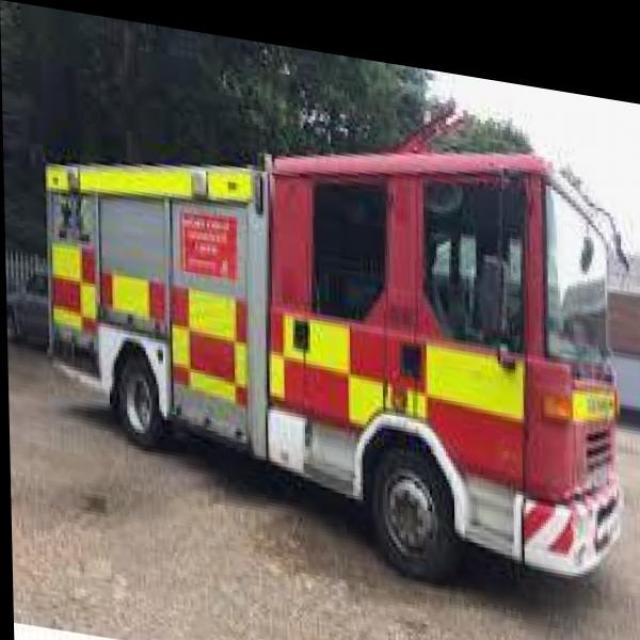emergency: (42, 120, 630, 584)
